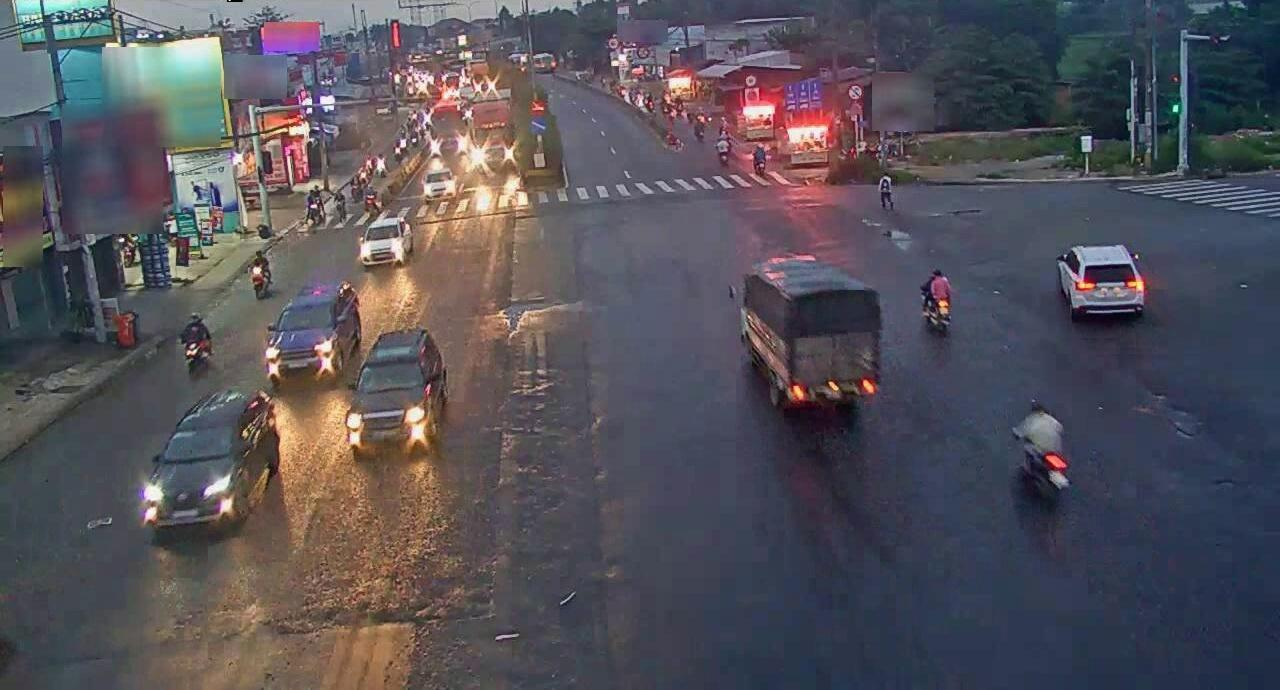xe hoi: (144, 390, 274, 536), (349, 320, 448, 450), (272, 286, 348, 376)
xe may: (1008, 394, 1071, 510), (173, 310, 211, 376), (244, 246, 272, 296)
xe tai: (733, 257, 886, 409)
